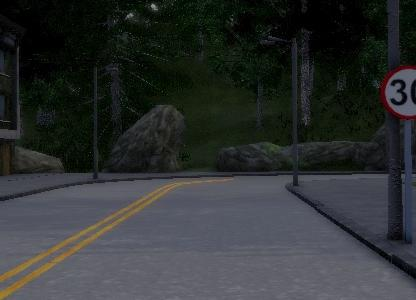Speed_30: (379, 62, 416, 120)
